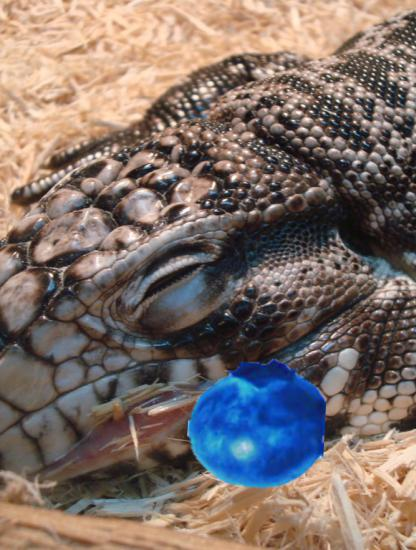Huckleberry: (188, 354, 325, 491)
